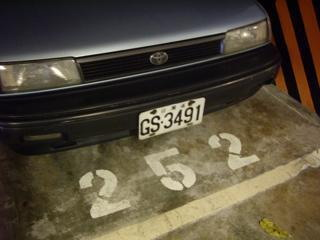plate: (137, 96, 204, 141)
